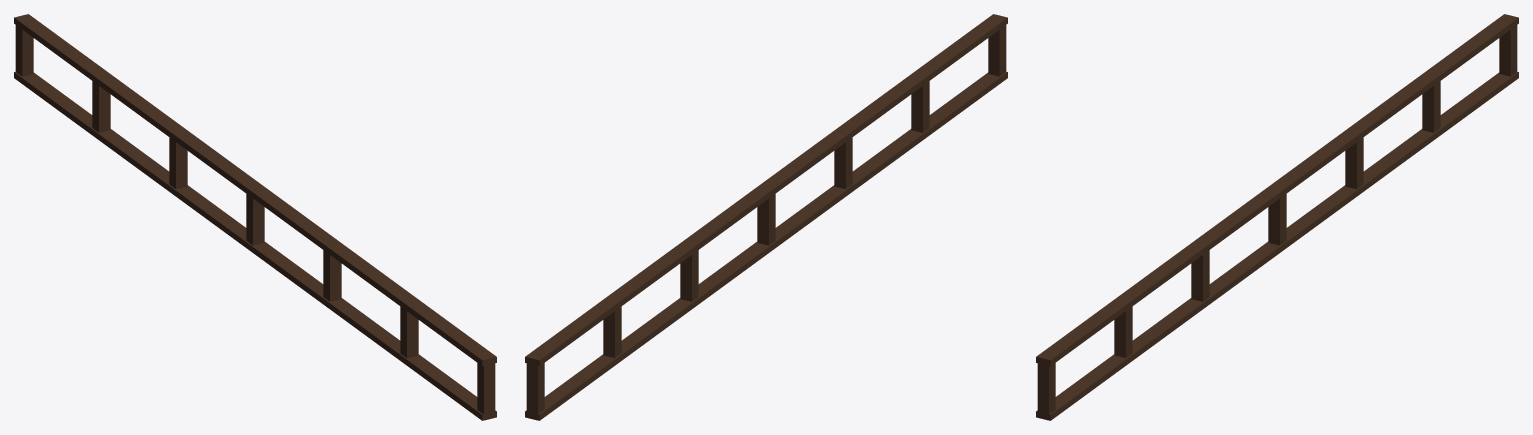
The model's file is env_bridge_rail_west.glb.
3 renders of one model, left to right at view 1: azimuth 30°, elevation 25°; view 2: azimuth 150°, elevation 25°; view 3: azimuth 330°, elevation 25°, orthographic.
Parts seen in each view (by area): view 1: ENV_Bridge_RailWest; view 2: ENV_Bridge_RailWest; view 3: ENV_Bridge_RailWest.
Boxes of the visible parts, x1,y1,x2,y2 form: ENV_Bridge_RailWest: (14, 14, 496, 420); ENV_Bridge_RailWest: (525, 14, 1007, 420); ENV_Bridge_RailWest: (1036, 14, 1518, 420).
Size of the model in its own units: 0.15 by 0.6 by 8.4.
